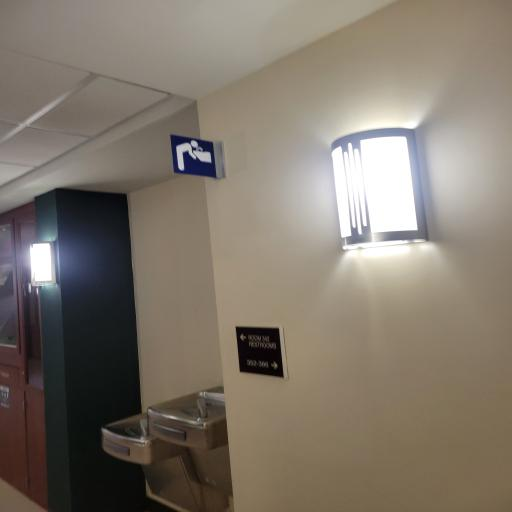water fountain: (148, 376, 235, 491), (101, 398, 183, 474)
water fountain sign: (166, 130, 230, 182)
